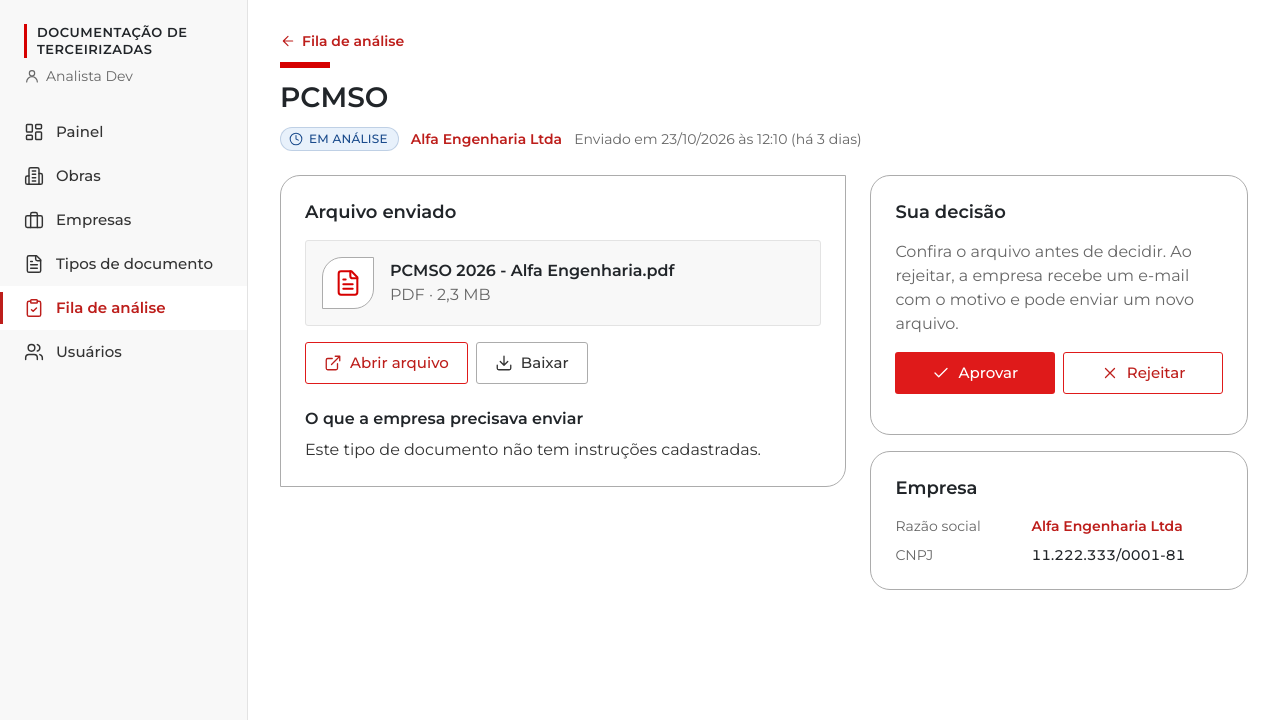
Test: Análise de um envio › aprovar registra a decisão e mostra "Aprovado" ao voltar para a fila
The image size is (1280, 720).
expect the heading "PCMSO" is shown: met, box left=280, top=80, right=388, bottom=114
Click the button "Aprovar" at (975, 373), box left=895, top=352, right=1055, bottom=394
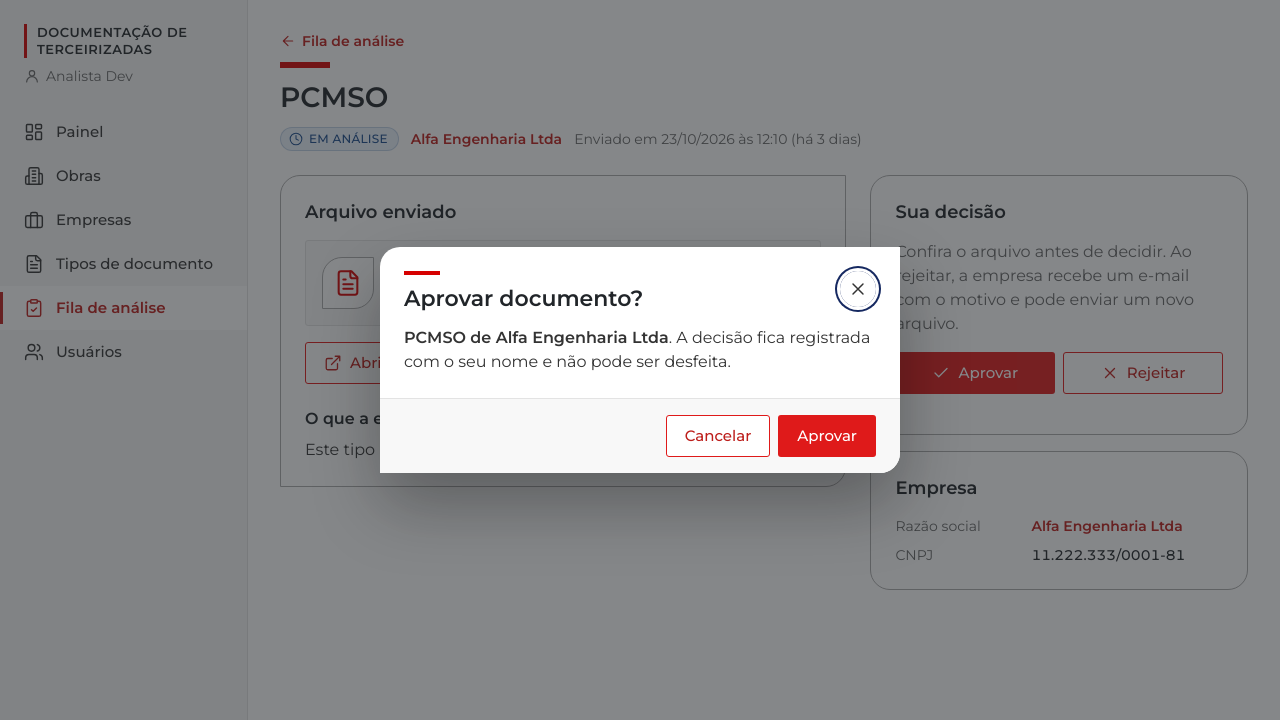
Click the button "Aprovar" at (827, 436), box left=778, top=415, right=876, bottom=457
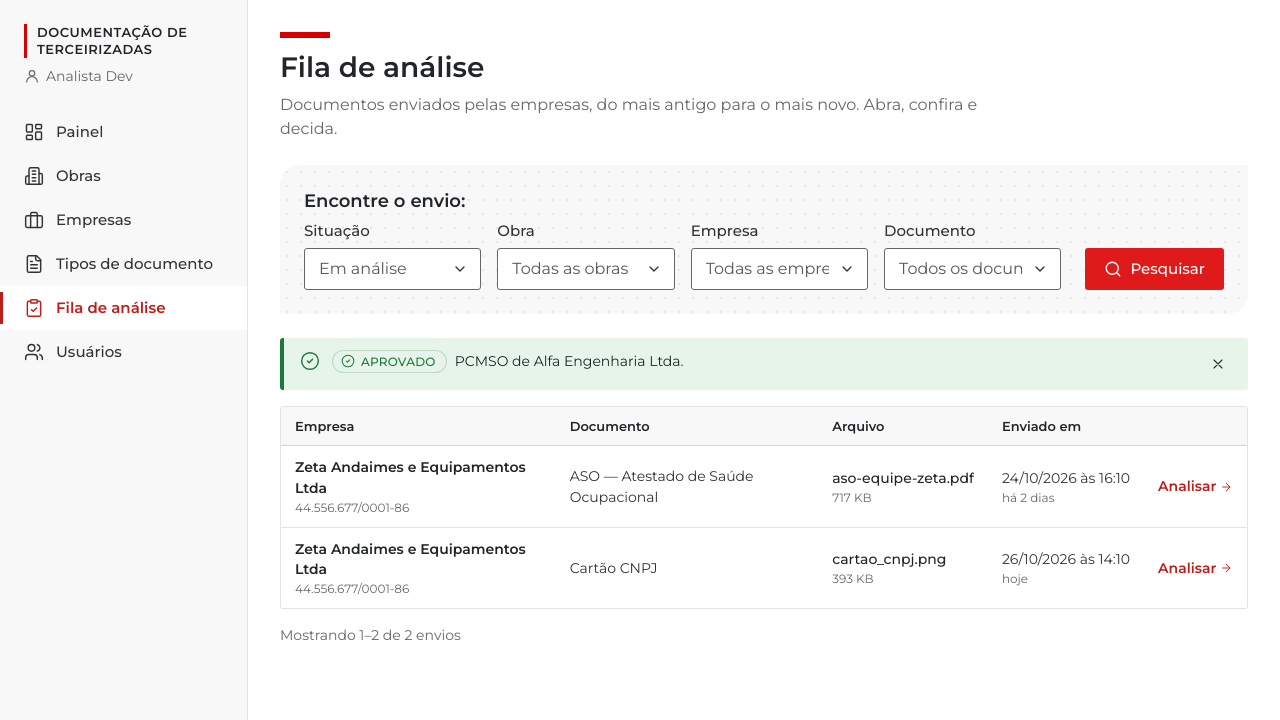
expect the text "PCMSO de Alfa Engenharia Ltda." is shown: met, box left=455, top=351, right=684, bottom=372
expect the text "Aprovado" is shown: met, box left=361, top=354, right=436, bottom=369
